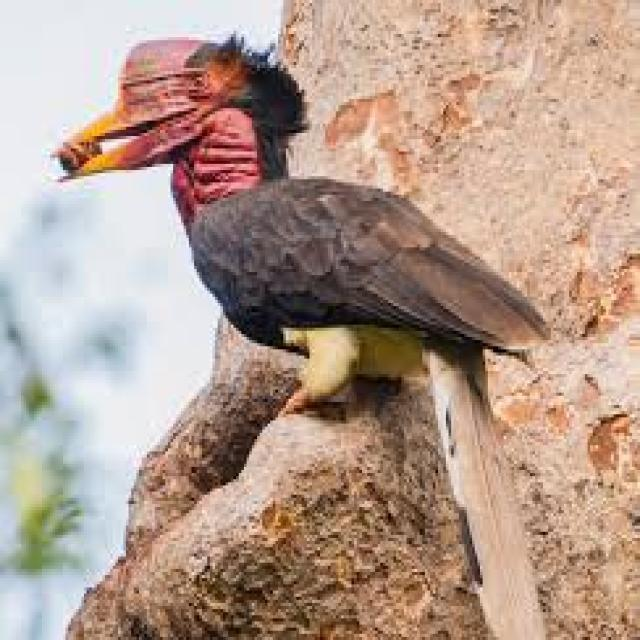Hornbill: (56, 33, 542, 636)
